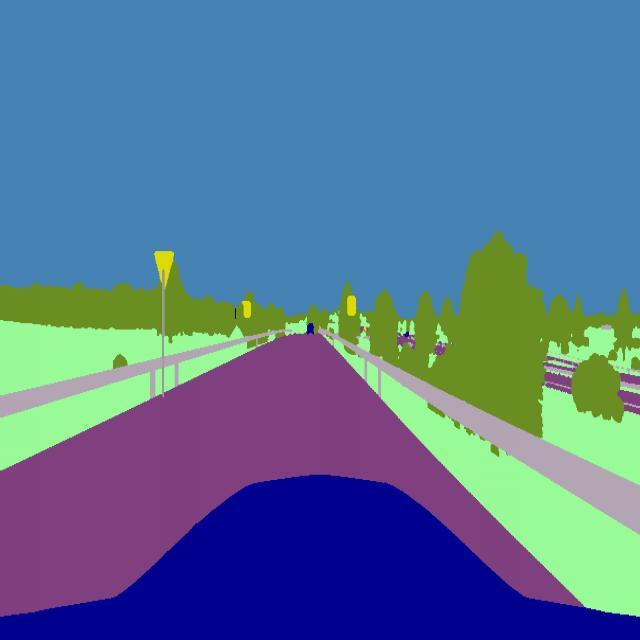safe: (304, 318, 316, 338)
